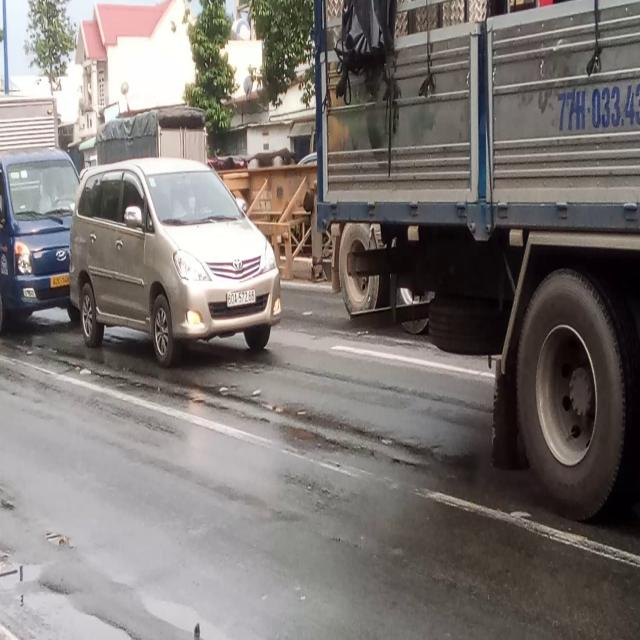bien_trang: (228, 291, 259, 304)
